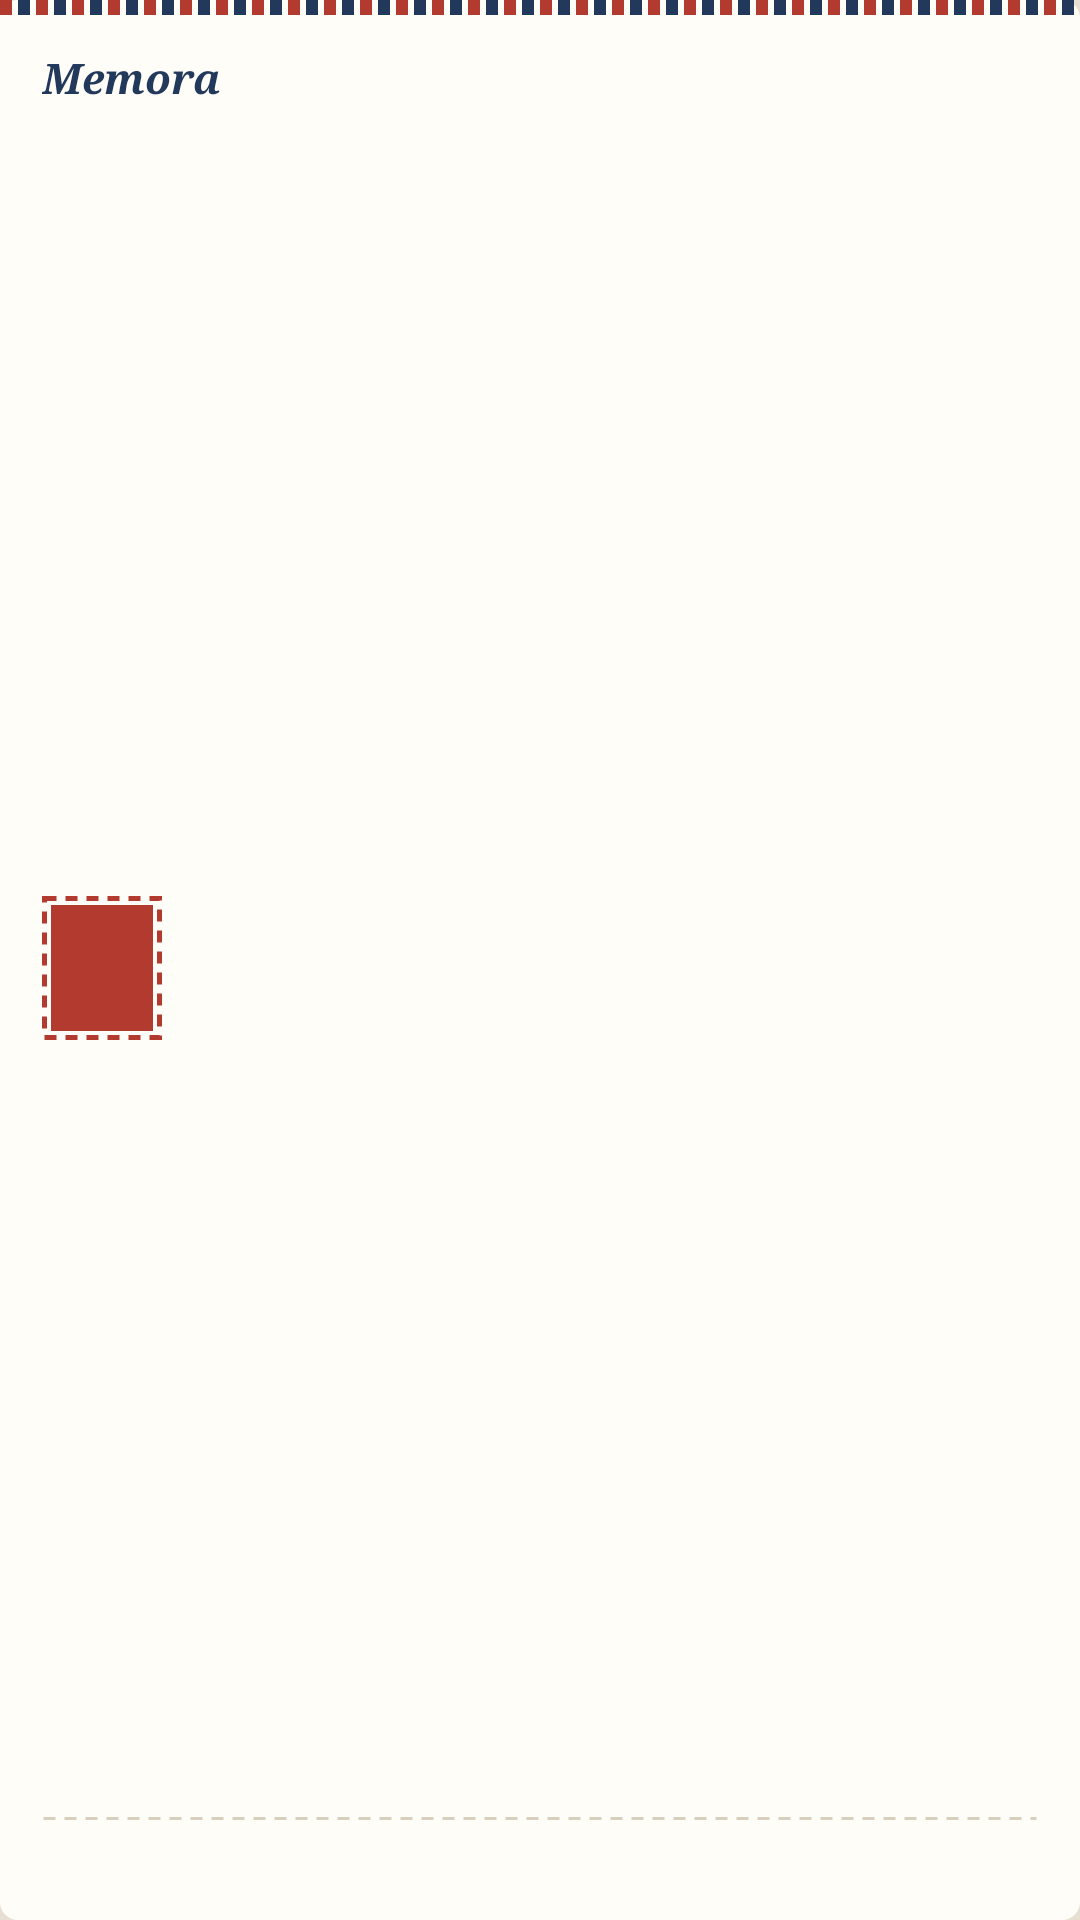

Named icons in this screenshot (1080 × 1920) and their bounding boxes, (x1, y1, x2, y2):
widget stamp today: (42, 896, 162, 1040)
